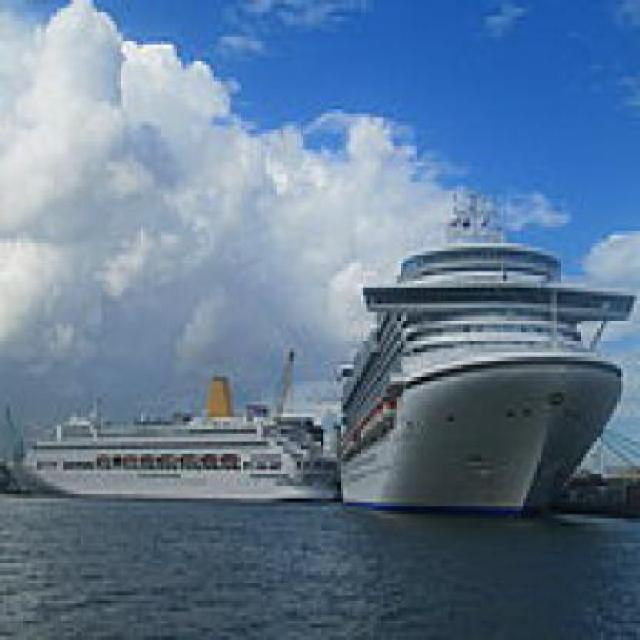cruise: (321, 187, 638, 520), (18, 373, 341, 512)
